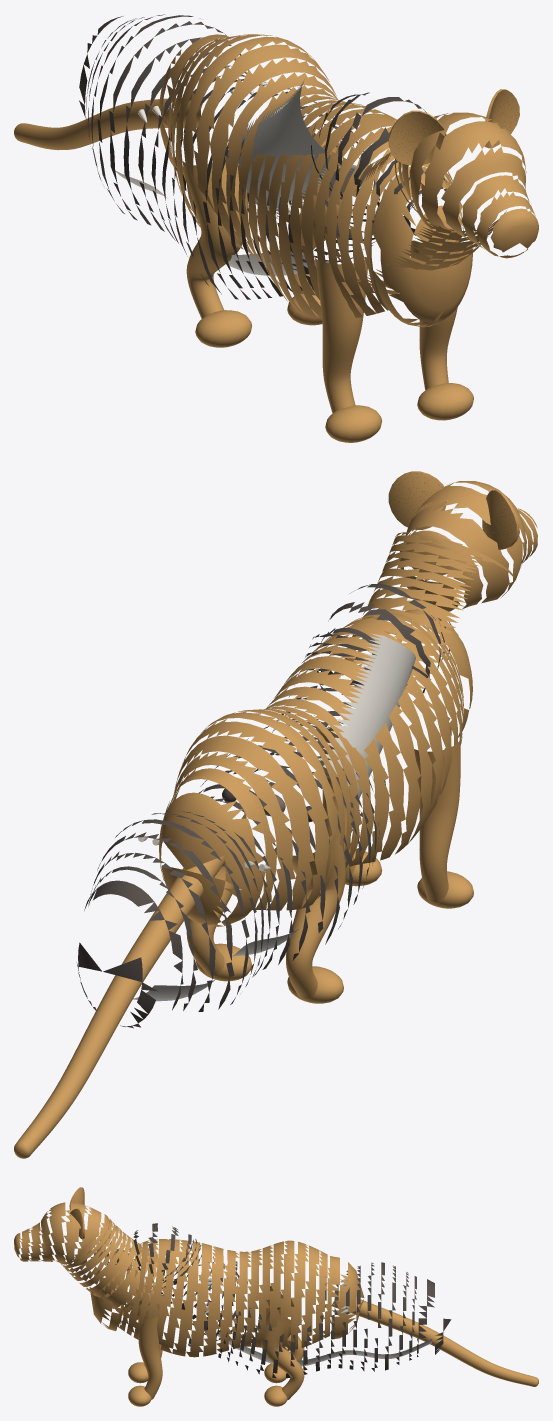
File: other-bengal-tiger.glb
The picture shows the model from 3 angles, top to bottom: view 1: azimuth 30°, elevation 25°; view 2: azimuth 150°, elevation 25°; view 3: azimuth 270°, elevation 25°; orthographic projection. The views are drawn at different scales.
Parts seen in each view (by area): view 1: bengal-tiger; view 2: bengal-tiger; view 3: bengal-tiger.
Boxes of the visible parts, x1,y1,x2,y2 form: bengal-tiger: [14, 14, 538, 442]; bengal-tiger: [14, 471, 537, 1158]; bengal-tiger: [14, 1187, 538, 1406].
Bounding box in the file's own units: 18961 × 45315 × 111264.
6 materials, 3 textured.
